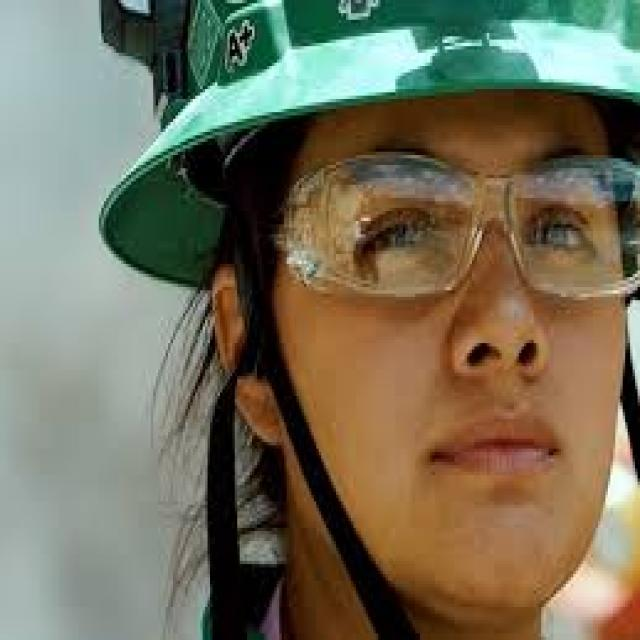Hard Hat: (91, 0, 640, 291)
Safety Glasses: (264, 145, 640, 302)
